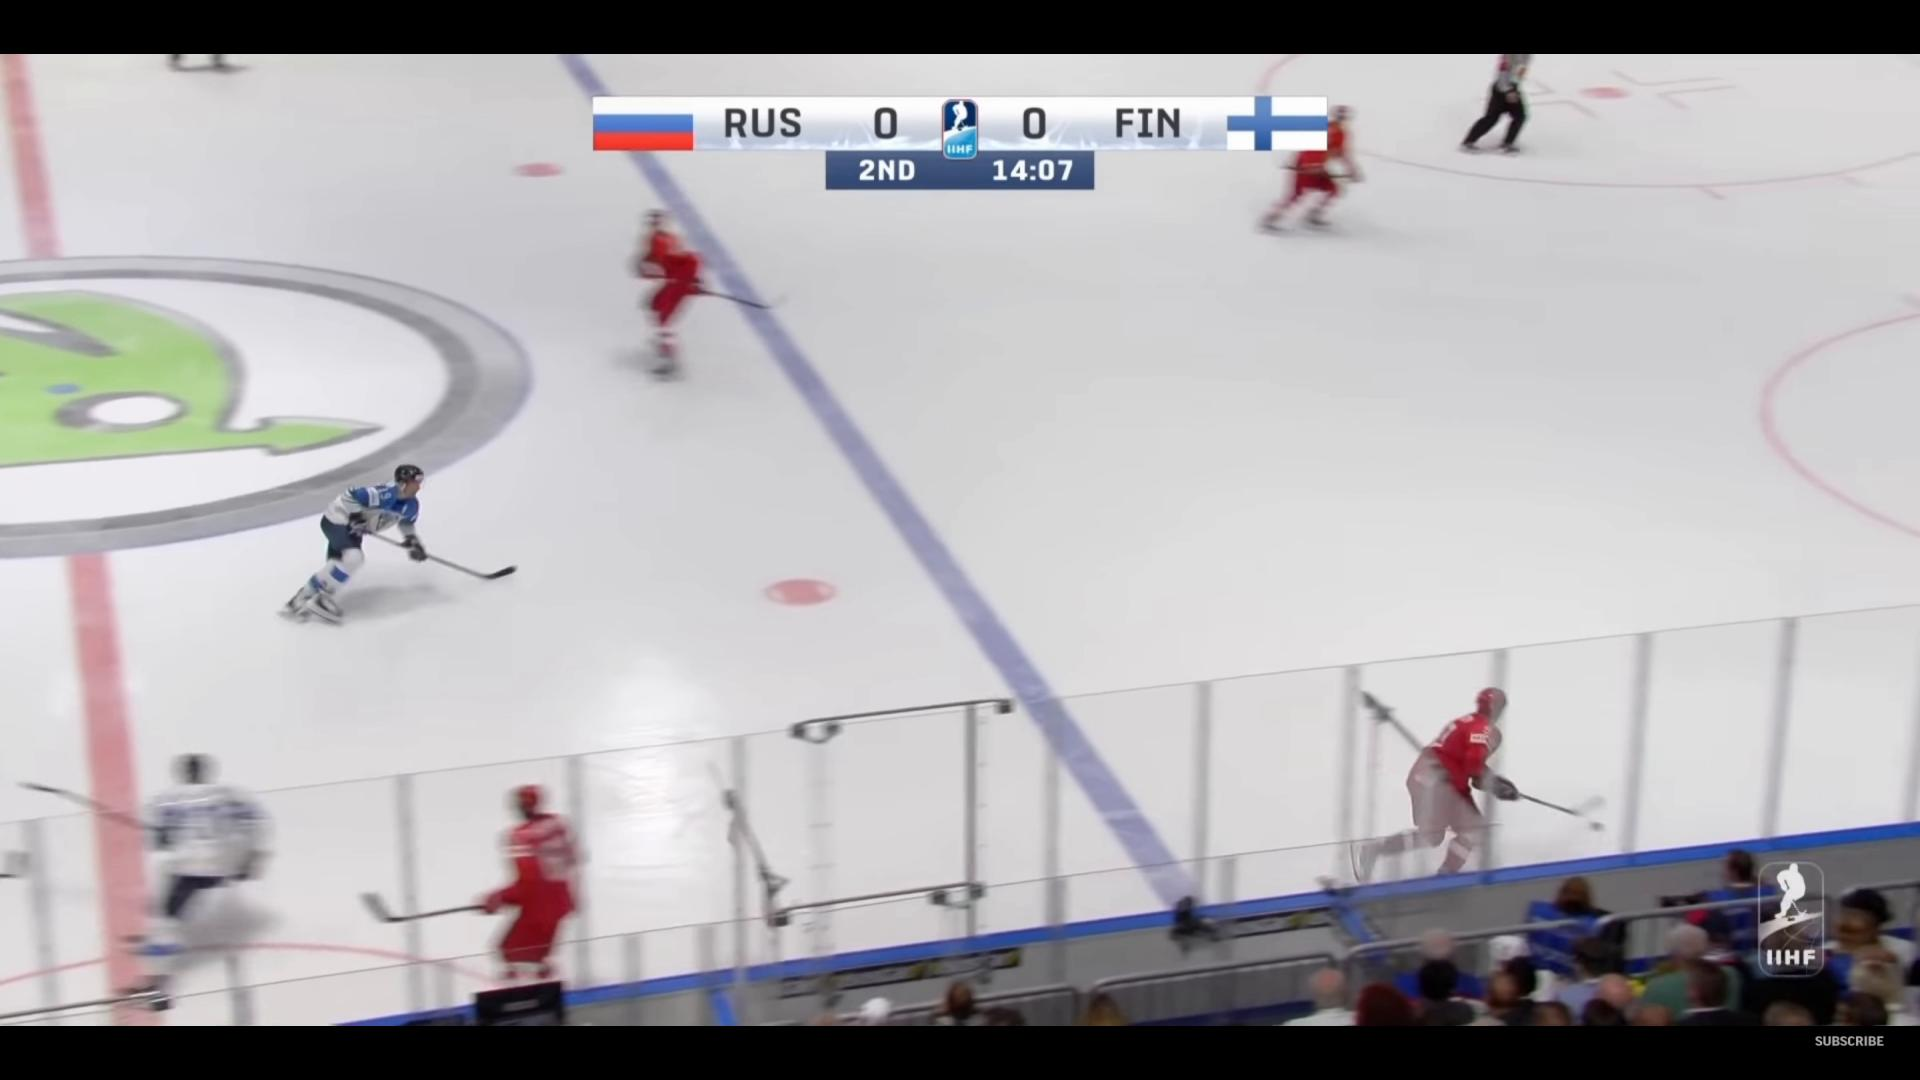puck: (1586, 819, 1606, 831)
